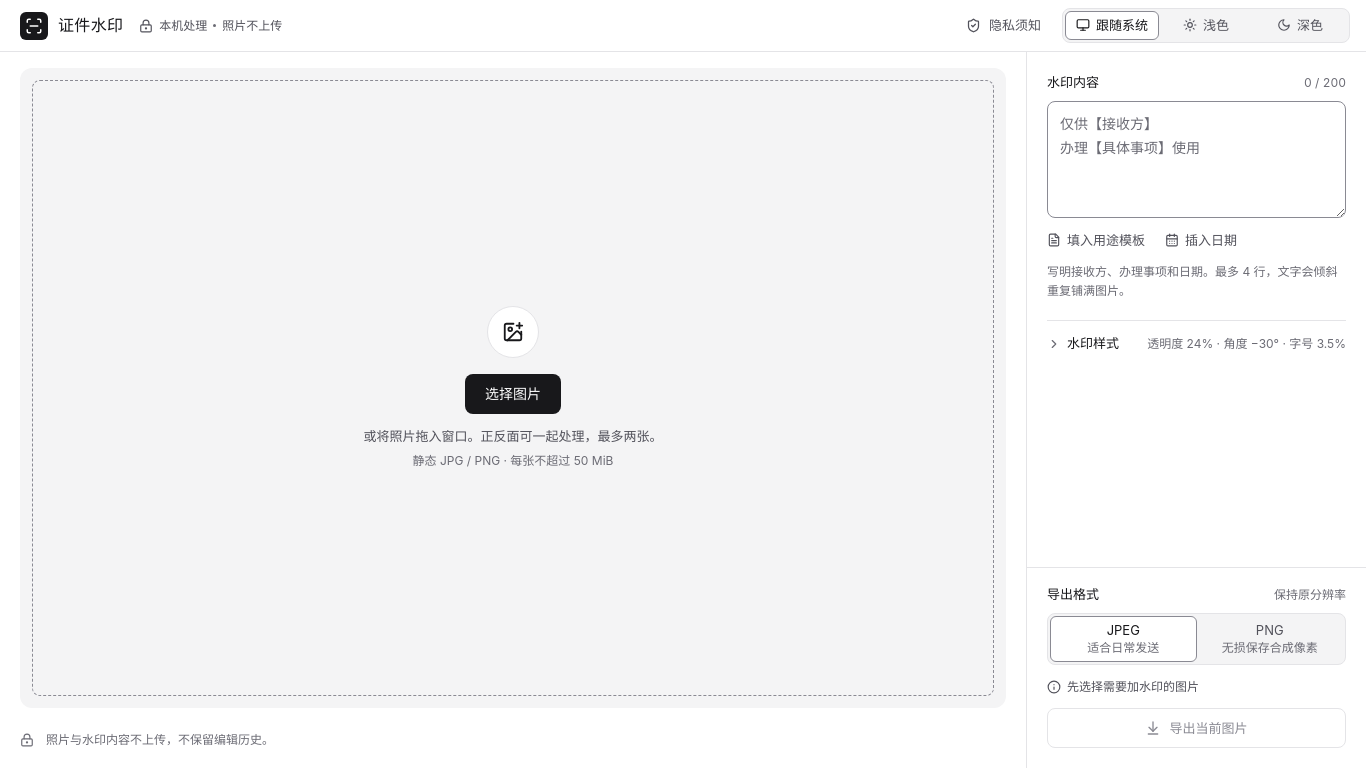
Scenario: an import error appears above the stage, not in the export dock
Click the button "选择图片" at (90, 388), box [32,80,994,696]
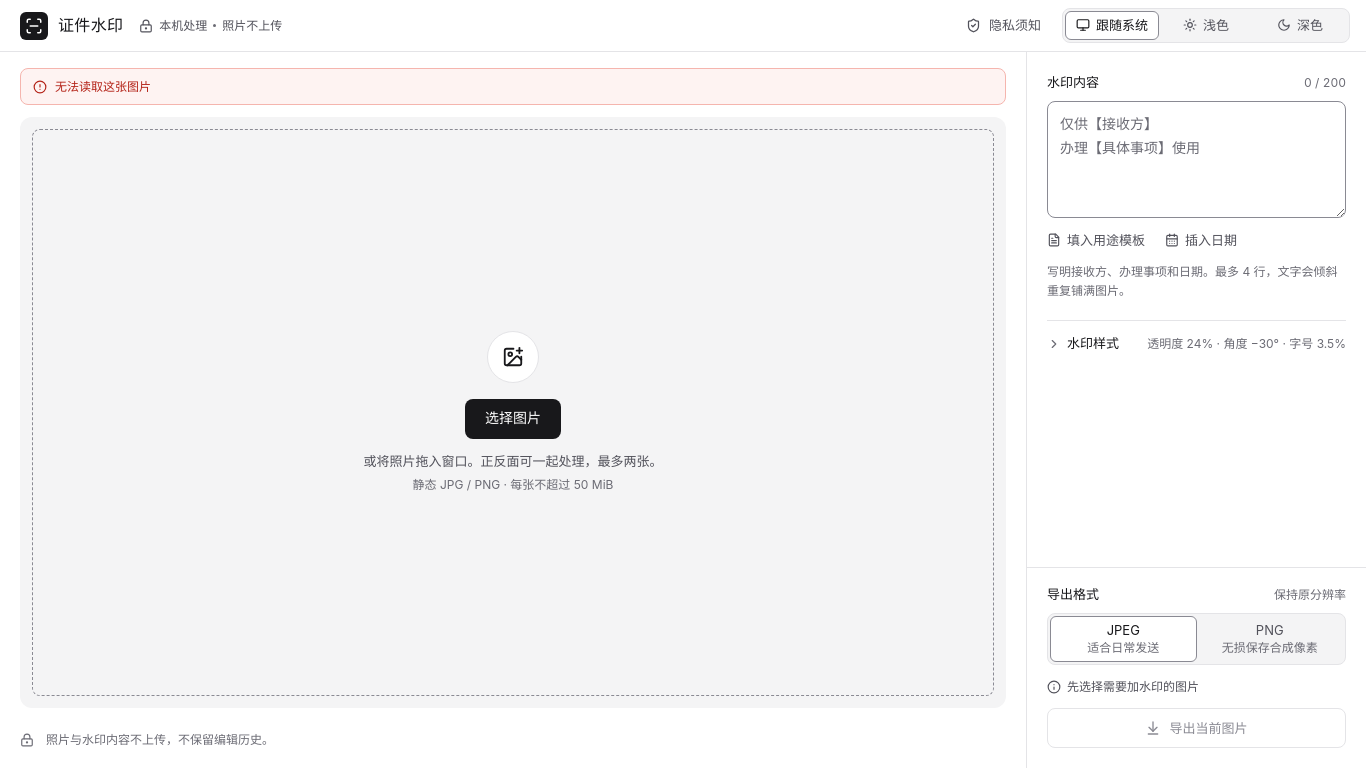
Check: the message reads "无法读取这张图片", box [55,79,151,94]
